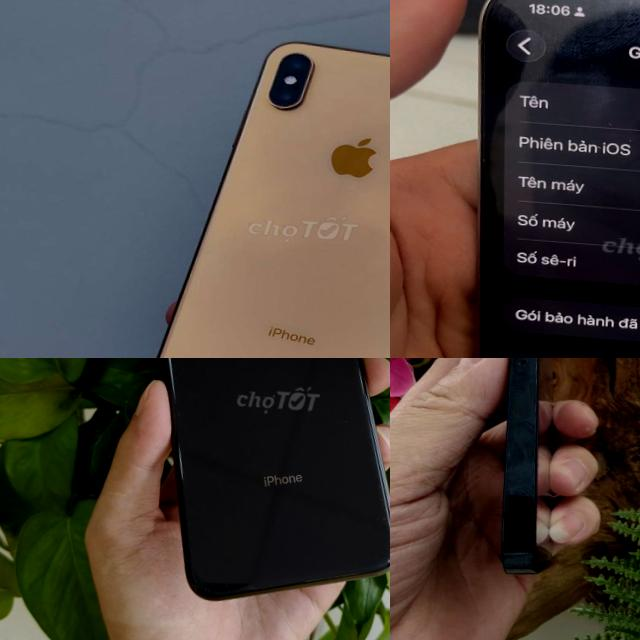scratch: (177, 542, 247, 598), (340, 412, 377, 456), (366, 466, 390, 530), (298, 567, 360, 588), (359, 545, 390, 574), (160, 362, 187, 386)
